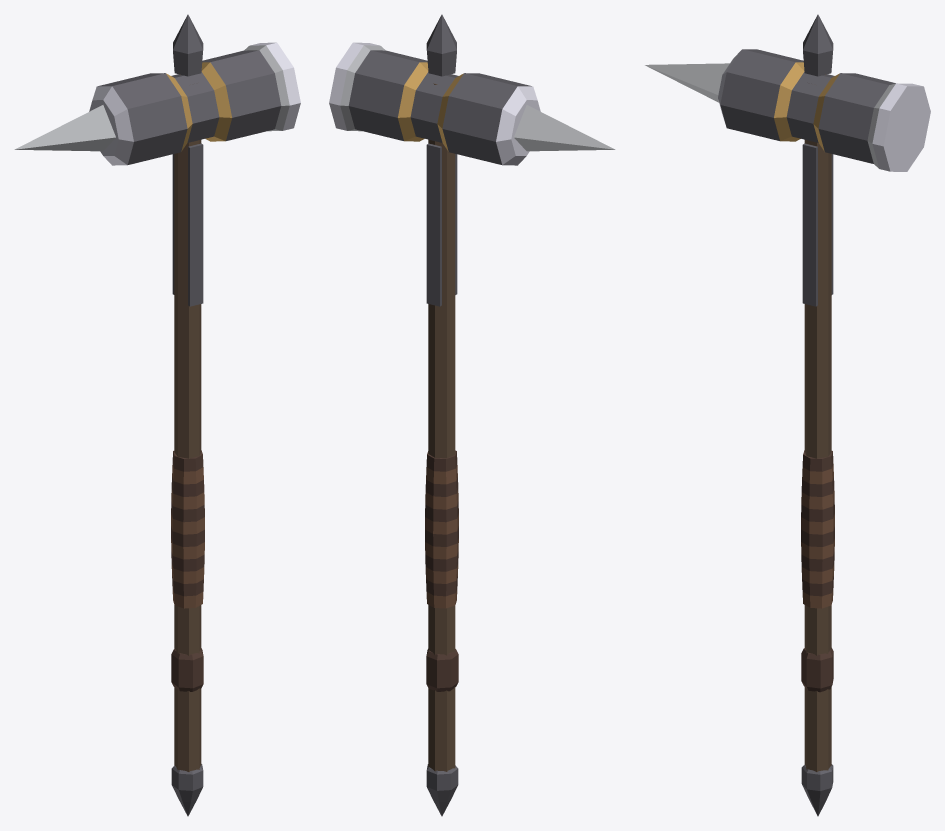
Rendered from maul.glb.
3 views of the same model, side by side, from view 1: azimuth 30°, elevation 25°; view 2: azimuth 150°, elevation 25°; view 3: azimuth 330°, elevation 25° (orthographic).
Visible parts, largest first — view 1: maul; view 2: maul; view 3: maul.
Boxes of the visible parts, <box> form: maul: <box>14,14,300,816</box>; maul: <box>329,14,615,816</box>; maul: <box>645,14,930,816</box>.
Size of the model in its own units: 0.59 by 1.72 by 0.184.
